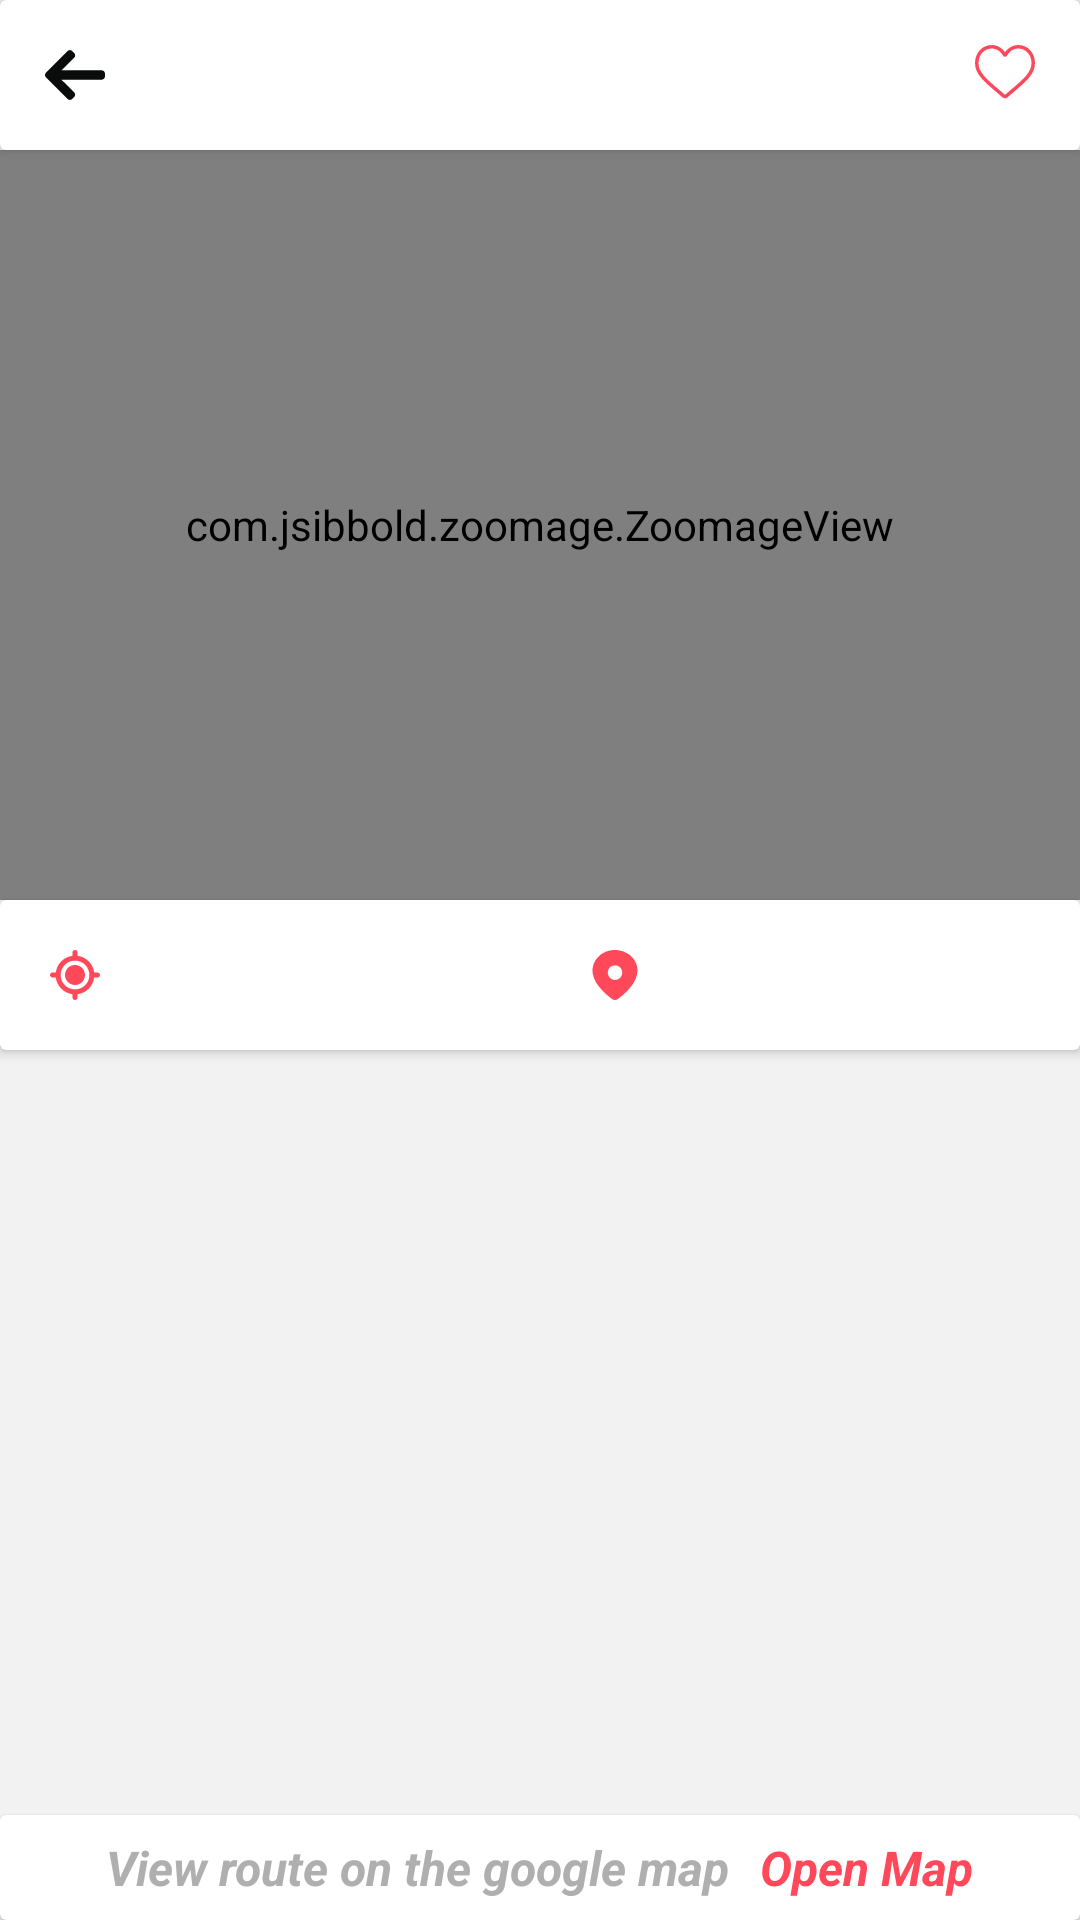

Screen size 1080 × 1920. Icon name, then its center in pixels as (x,y):
destination: (615,975)
source: (75,975)
